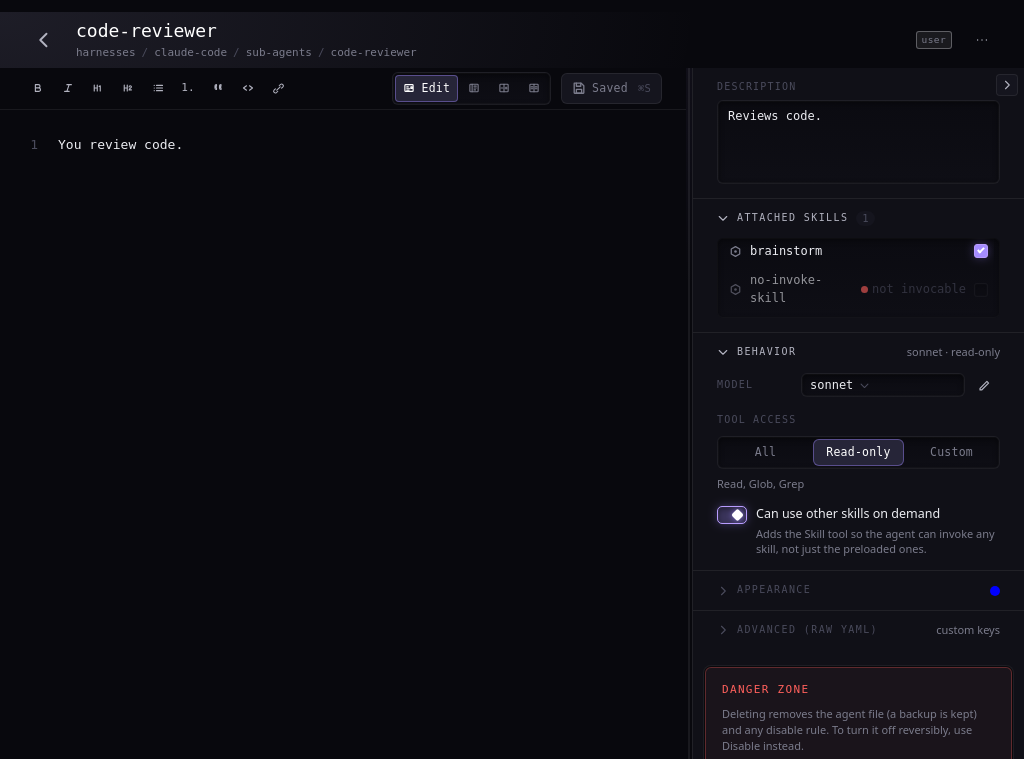
Test: Sub-agent editor › blocks the inline rename with an invalid name (client validation)
The width and height of the screenshot is (1024, 759).
Click the button with aria-label "Rename agent name: code-reviewer" at (155, 31), box left=72, top=19, right=239, bottom=43
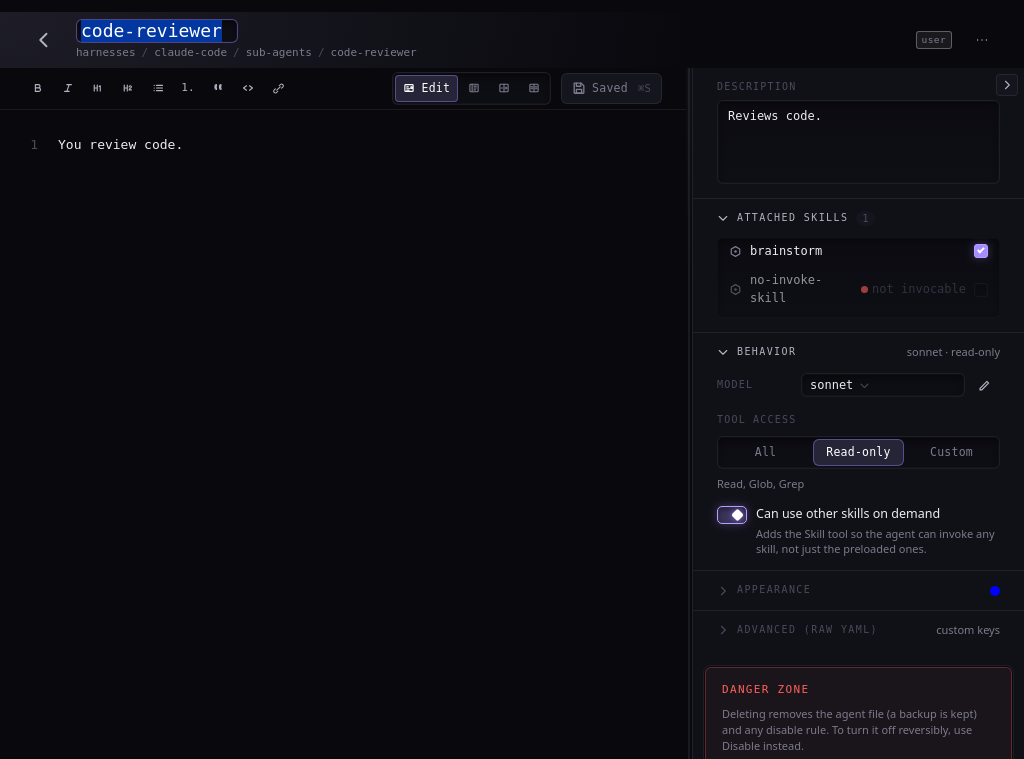
Clear the field named "Agent name" at (157, 31), box left=76, top=19, right=238, bottom=43
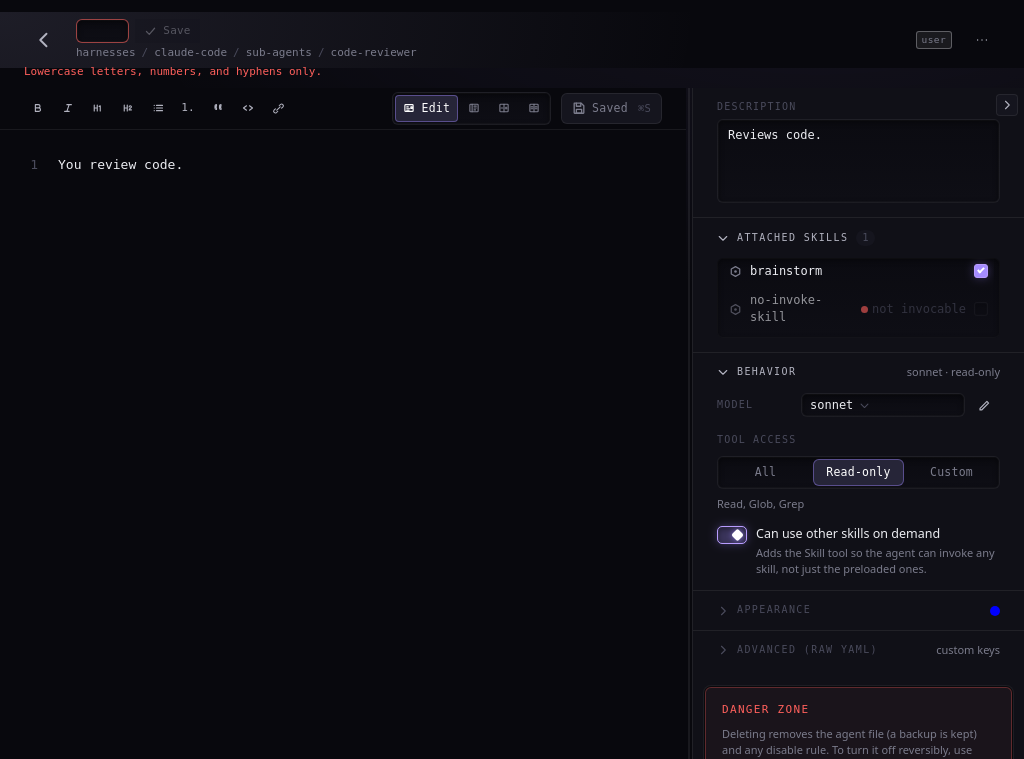
Type "Bad Name!" into the field named "Agent name" at (103, 31), box left=76, top=19, right=129, bottom=43
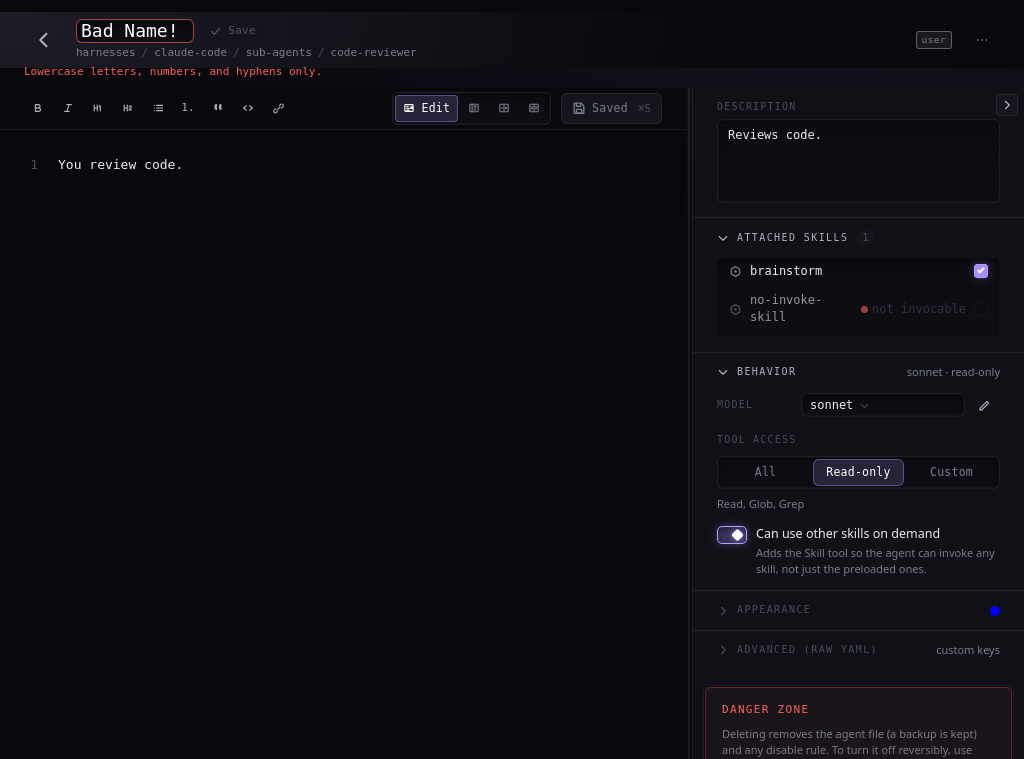
Result: the message shows "Lowercase letters, numbers, and hyphens only" at left=24, top=65, right=322, bottom=78
Clear the field named "Agent name" at (135, 31), box left=76, top=19, right=194, bottom=43
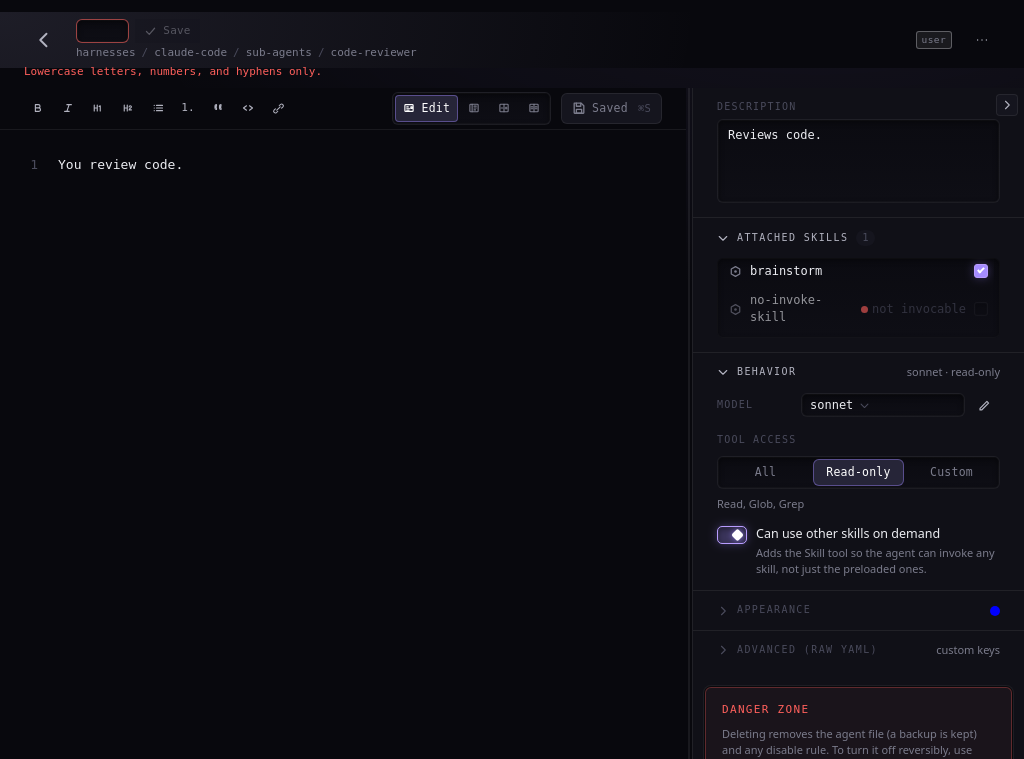
Type "good-name" into the field named "Agent name" at (103, 31), box left=76, top=19, right=129, bottom=43
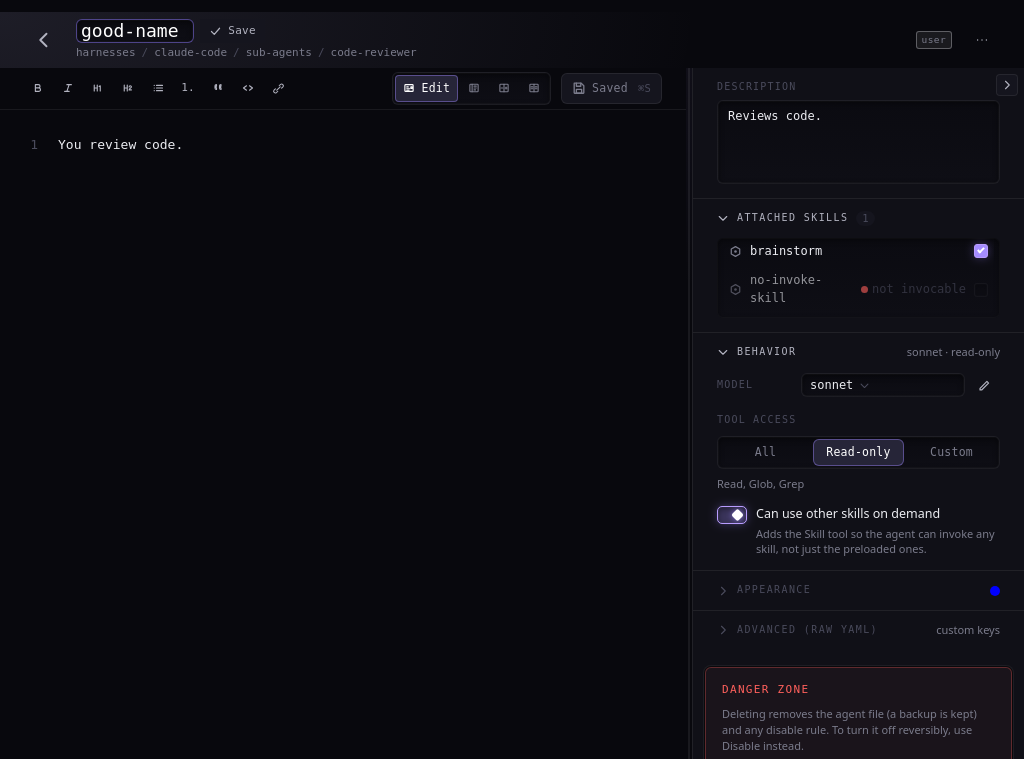
Result: the message "Lowercase letters, numbers, and hyphens only." is gone
